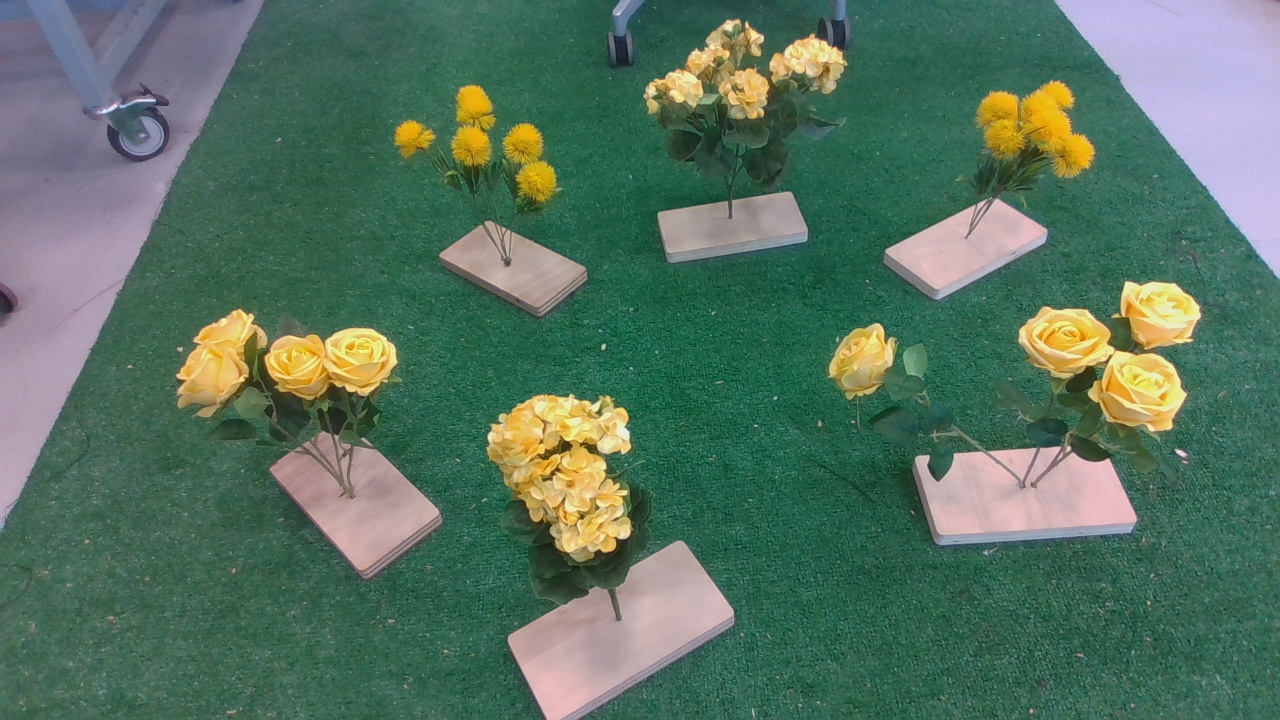dandelion: (384, 84, 575, 225), (956, 78, 1108, 201)
geranium: (484, 383, 662, 604), (641, 23, 864, 187)
rose: (824, 285, 1209, 481), (169, 307, 408, 456)
